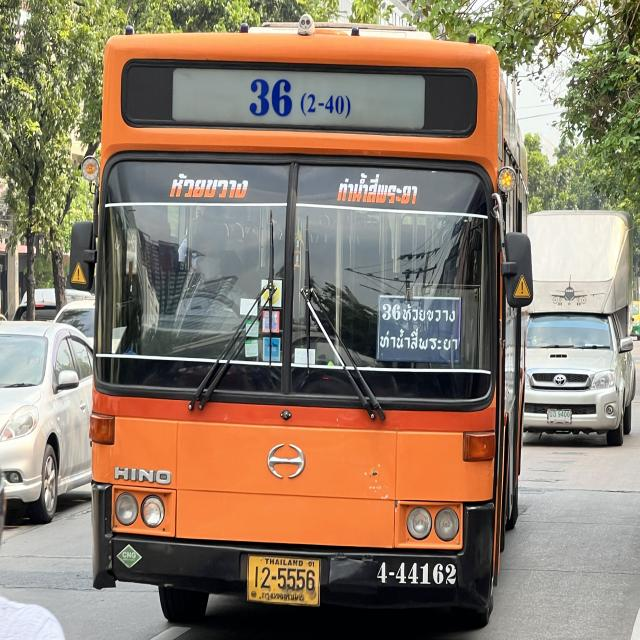BMTA-bus: (89, 21, 531, 632)
Bus-Line-Number: (244, 70, 363, 126)
Destination-Sign-Normal: (377, 294, 462, 364)
